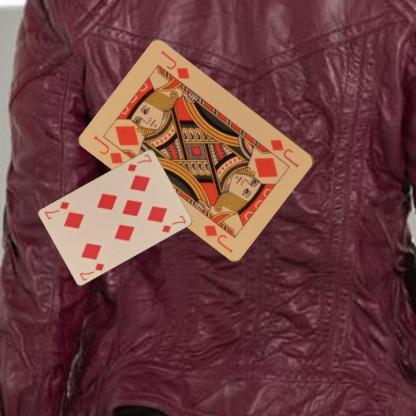7d: (124, 151, 154, 173), (77, 260, 106, 282)
Jd: (268, 136, 301, 169), (92, 132, 124, 166)
